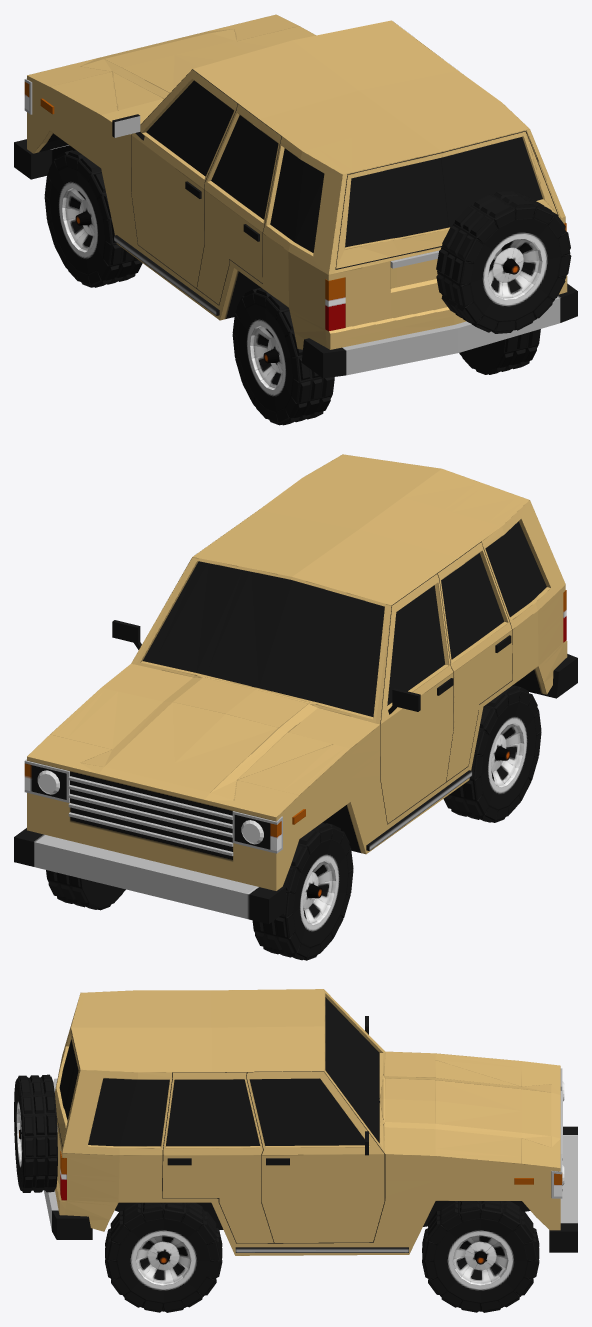
Rendered from Car.fbx.
3 views of the same model, one above another, from view 1: azimuth 30°, elevation 25°; view 2: azimuth 150°, elevation 25°; view 3: azimuth 270°, elevation 25° (orthographic). The views are drawn at different scales.
Parts seen in each view (by area): view 1: Xassis, RodaTE, RodaDE, RodaRD; view 2: Xassis, RodaDE, RodaTE, RodaDD; view 3: Xassis, RodaDD, RodaRD.
Boxes of the visible parts, x1,y1,x2,y2 form: Xassis: (14, 14, 577, 378); RodaTE: (232, 288, 334, 425); RodaDE: (44, 150, 142, 287); RodaRD: (459, 329, 540, 374); Xassis: (14, 454, 577, 924); RodaDE: (252, 822, 353, 960); RodaTE: (443, 685, 541, 822); RodaDD: (46, 870, 125, 910); Xassis: (14, 989, 577, 1255); RodaDD: (422, 1201, 539, 1312); RodaRD: (105, 1202, 222, 1312).
Size of the model in its own units: 134 by 118 by 254.
